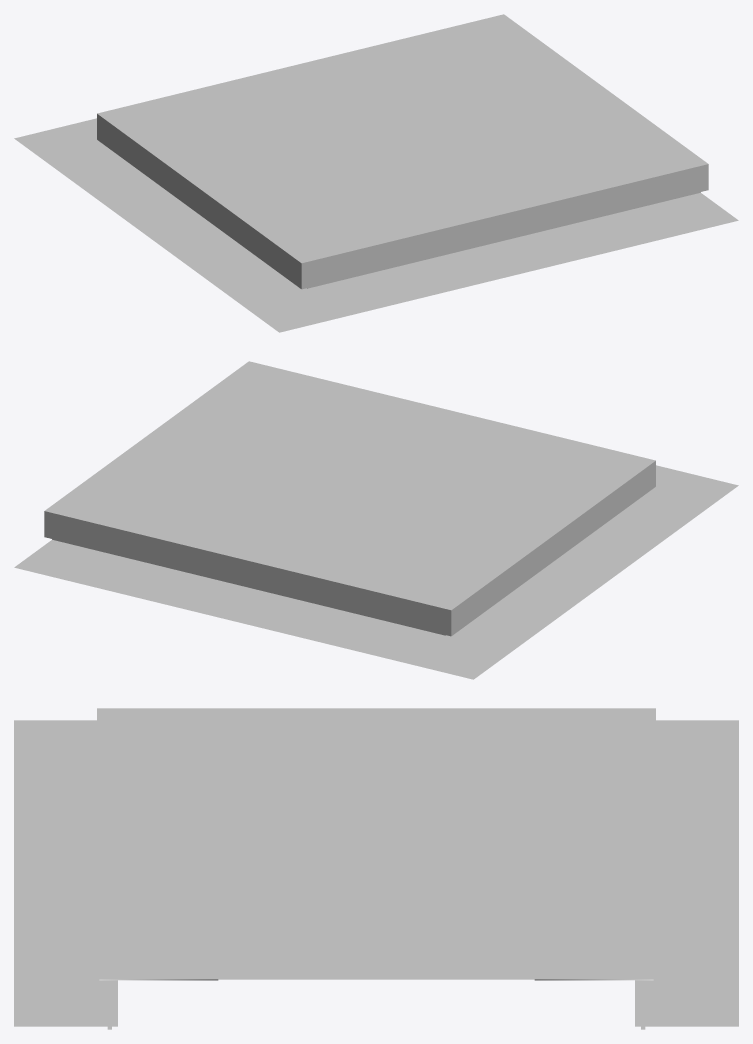
Rendered from Ceiling02_8_350x350cm.FBX.
The picture shows the model from 3 angles, top to bottom: view 1: azimuth 30°, elevation 25°; view 2: azimuth 150°, elevation 25°; view 3: azimuth 270°, elevation 25°; orthographic projection. The views are drawn at different scales.
Parts seen in each view (by area): view 1: Ceiling; view 2: Ceiling; view 3: Ceiling.
Boxes of the visible parts, x1,y1,x2,y2 form: Ceiling: (14, 14, 738, 332); Ceiling: (14, 361, 738, 679); Ceiling: (14, 708, 738, 1026).
Bounding box in the file's own units: 350 × 26.5 × 350.
